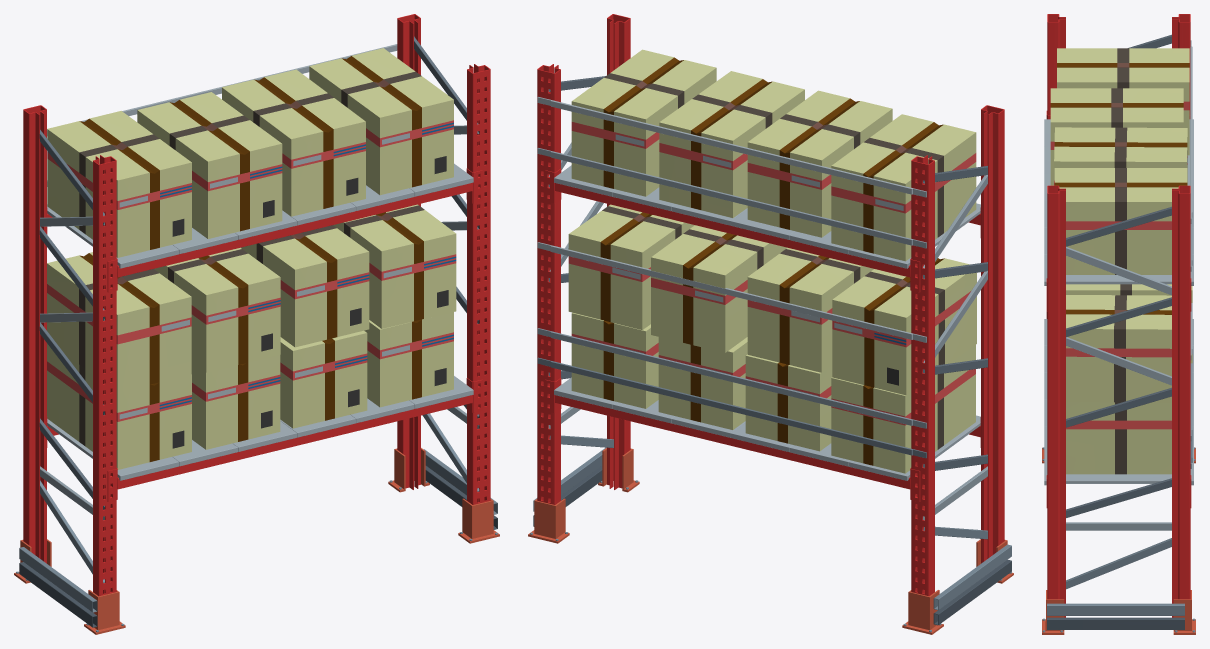
Rendered from SM_ShelfBoxesx1_Red_D.fbx.
3 renders of one model, left to right at view 1: azimuth 30°, elevation 25°; view 2: azimuth 150°, elevation 25°; view 3: azimuth 270°, elevation 25°, orthographic. The views are drawn at different scales.
Parts seen in each view (by area): view 1: SM_ShelfBoxesx1_Red_D; view 2: SM_ShelfBoxesx1_Red_D; view 3: SM_ShelfBoxesx1_Red_D.
Boxes of the visible parts, <box> form: SM_ShelfBoxesx1_Red_D: <box>14,14,499,634</box>; SM_ShelfBoxesx1_Red_D: <box>528,14,1013,634</box>; SM_ShelfBoxesx1_Red_D: <box>1042,14,1195,634</box>.
Bounding box in the file's own units: 336 × 370 × 118.
